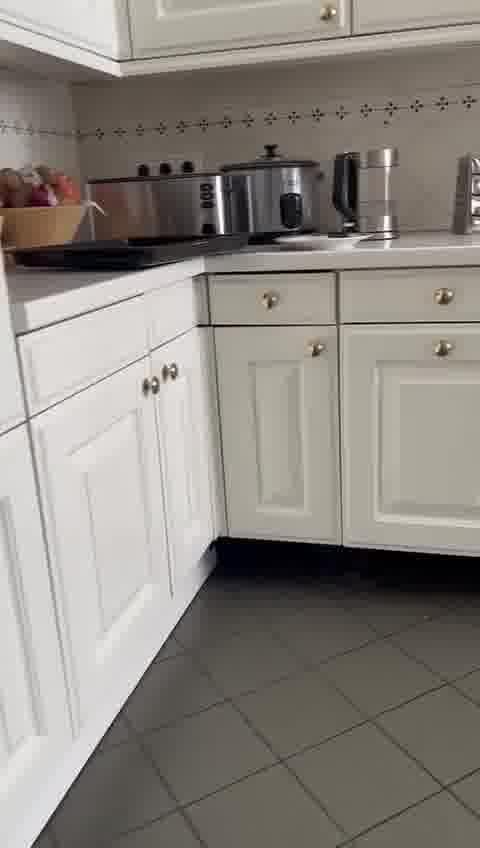cabinet_door: (54, 376, 165, 664), (211, 328, 348, 542), (347, 327, 476, 550), (158, 348, 219, 564), (347, 271, 479, 322), (209, 273, 336, 321)
handle: (259, 286, 284, 318), (431, 283, 459, 311), (138, 374, 165, 401), (309, 340, 333, 368), (159, 359, 181, 385), (435, 335, 455, 360), (319, 5, 338, 28)
